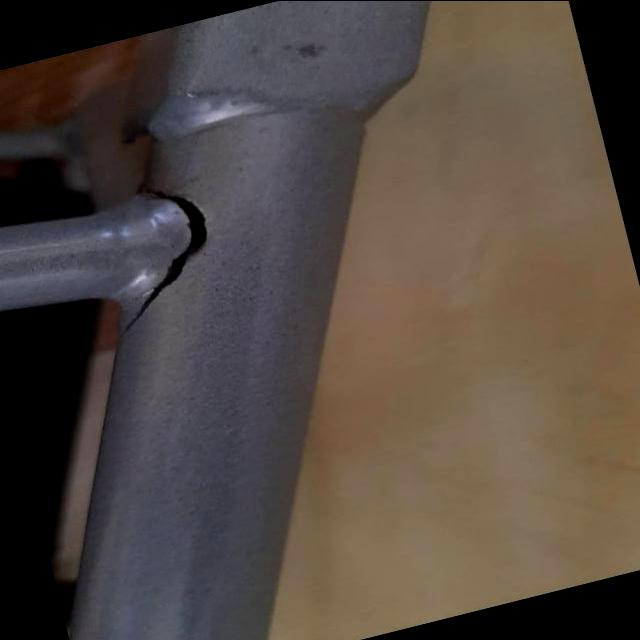defect: (114, 179, 215, 341)
